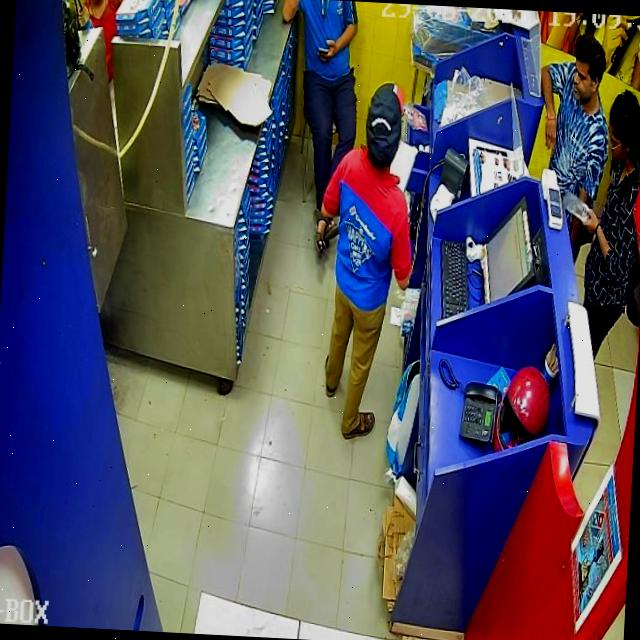helmet: (491, 365, 552, 452)
